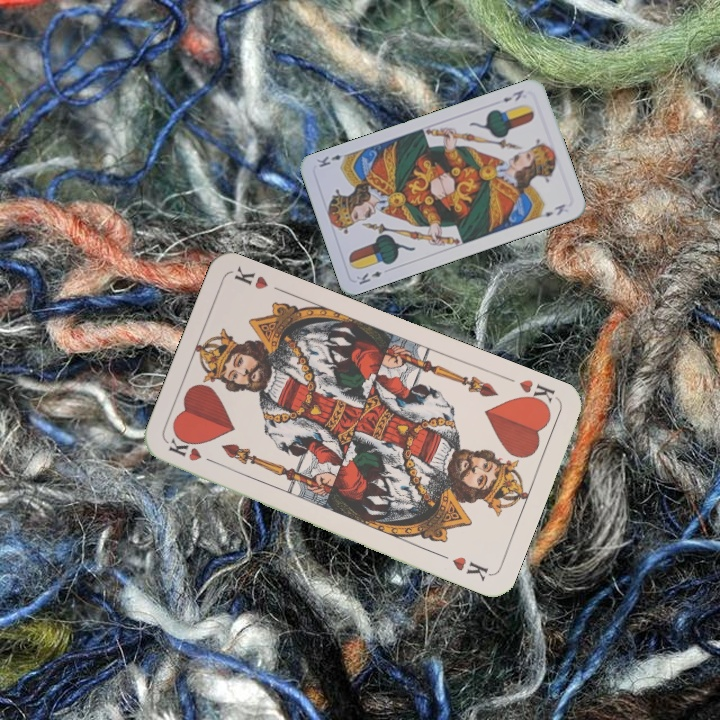EK: (352, 267, 385, 287), (499, 86, 526, 104)
HK: (164, 435, 222, 468), (514, 375, 559, 412)
